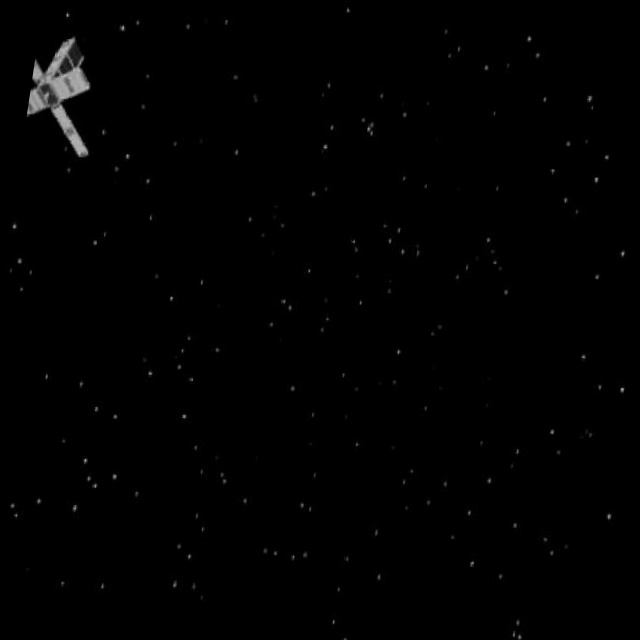satellite: (21, 34, 112, 164)
